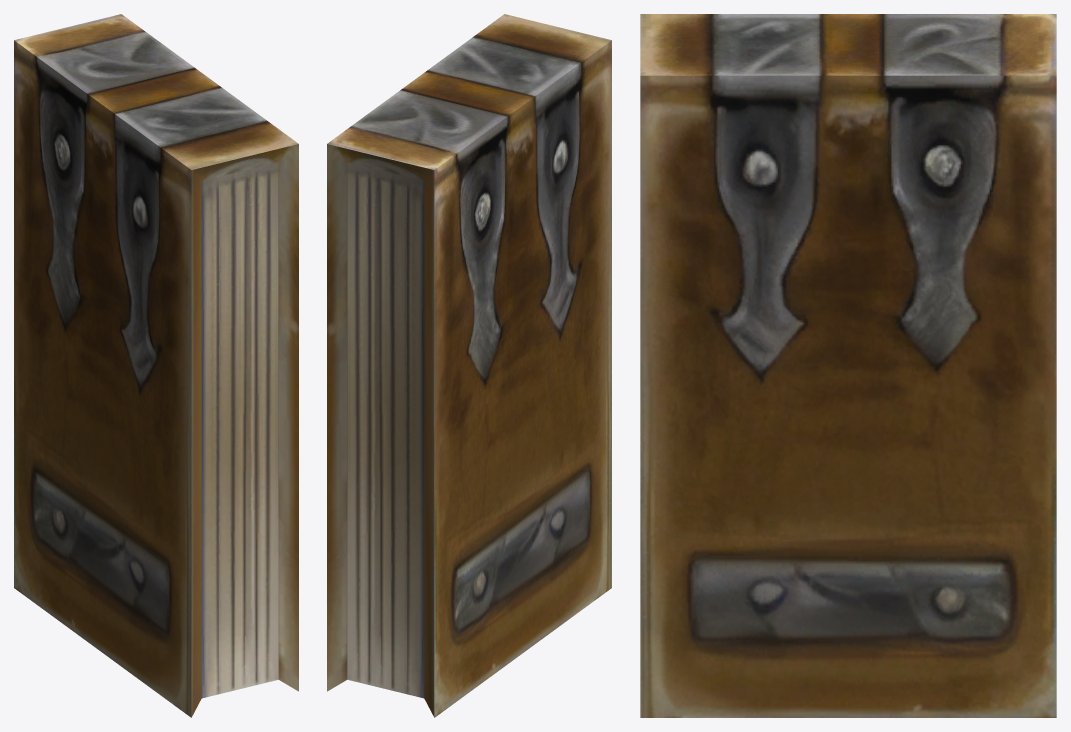
File: booklarge01.obj
3 views of the same model, side by side, from view 1: azimuth 30°, elevation 25°; view 2: azimuth 150°, elevation 25°; view 3: azimuth 270°, elevation 25° (orthographic). The views are drawn at different scales.
Visible parts, largest first — view 1: booklarge01; view 2: booklarge01; view 3: booklarge01.
Boxes of the visible parts, left/top/right/bottom form: booklarge01: left=14, top=14, right=298, bottom=717; booklarge01: left=327, top=14, right=611, bottom=717; booklarge01: left=640, top=14, right=1056, bottom=717.
Bounding box in the file's own units: 0.2407 × 1.17 × 0.6885.
Materials: 1 (1 with a texture image).
